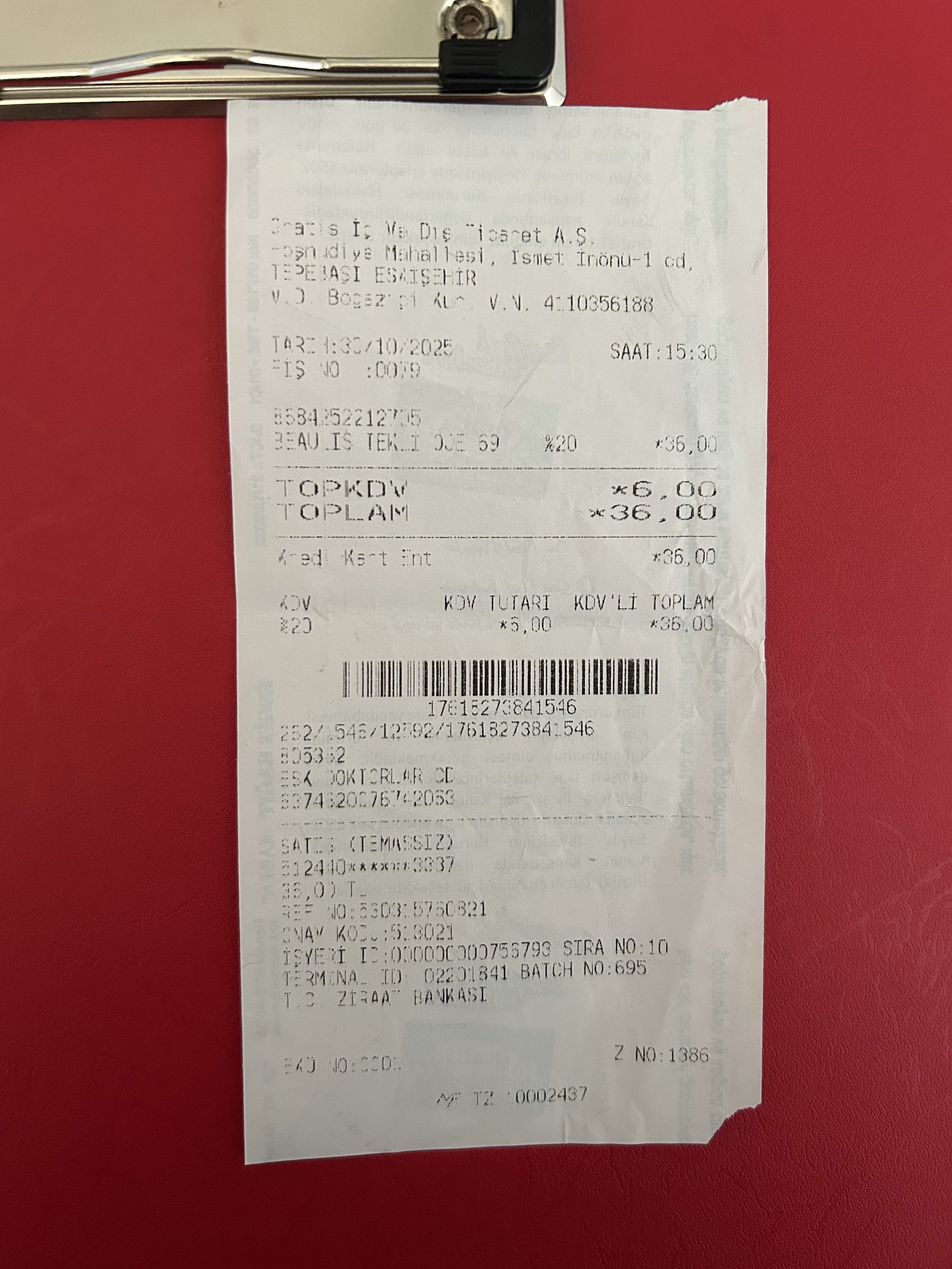date: (601, 497, 724, 532)
price: (335, 329, 459, 360)
workplace: (258, 206, 704, 291)
